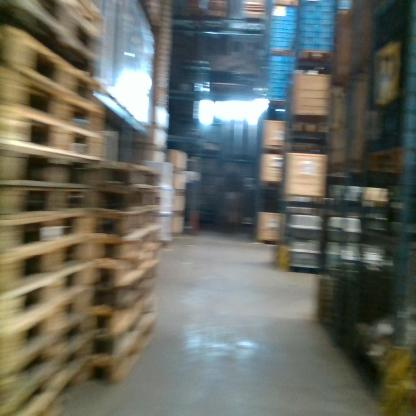pallet: (1, 31, 108, 114), (4, 6, 99, 80), (3, 63, 104, 132), (2, 320, 78, 411), (2, 266, 86, 342), (4, 297, 77, 379), (73, 316, 155, 386), (1, 235, 89, 300), (4, 289, 81, 363), (2, 109, 107, 163), (1, 208, 94, 266), (2, 140, 99, 191), (73, 289, 155, 341), (3, 184, 96, 222), (79, 205, 163, 244), (78, 272, 162, 309), (86, 222, 156, 266), (81, 178, 161, 216), (2, 3, 106, 32), (78, 160, 161, 192), (85, 256, 158, 288), (295, 48, 330, 72), (288, 110, 329, 126)
